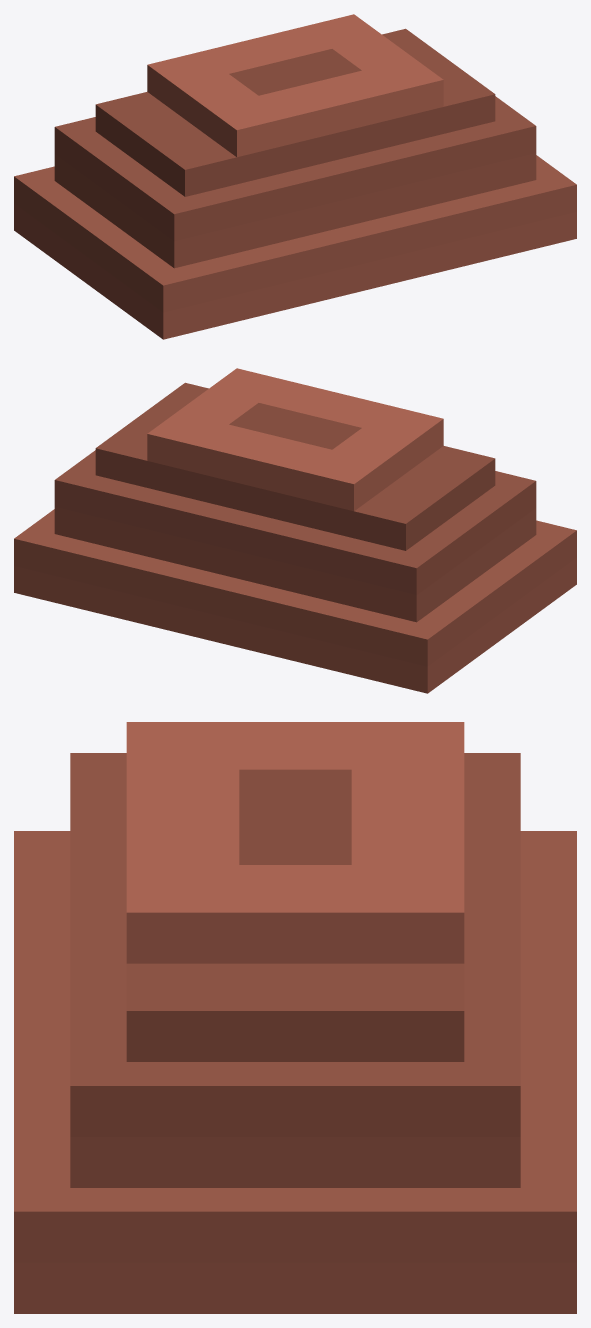
Rendered from mat_dragonsteel.glb.
3 views of the same model, one above another, from view 1: azimuth 30°, elevation 25°; view 2: azimuth 150°, elevation 25°; view 3: azimuth 270°, elevation 25° (orthographic). The views are drawn at different scales.
Visible parts, largest first — view 1: mat_dragonsteel; view 2: mat_dragonsteel; view 3: mat_dragonsteel.
Boxes of the visible parts, x1=… form: mat_dragonsteel: x1=14, y1=14, x2=576, y2=339; mat_dragonsteel: x1=14, y1=368, x2=576, y2=693; mat_dragonsteel: x1=14, y1=722, x2=576, y2=1313.
Bounding box in the file's own units: 0.192 × 0.072 × 0.12.
